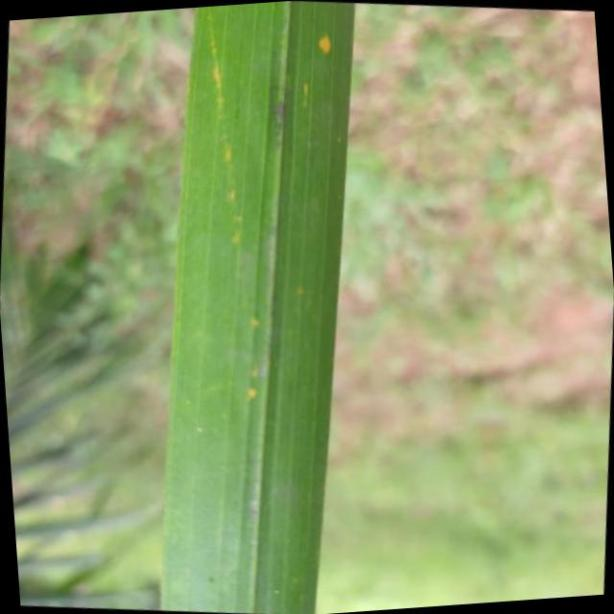Kalium: (162, 0, 356, 614)
